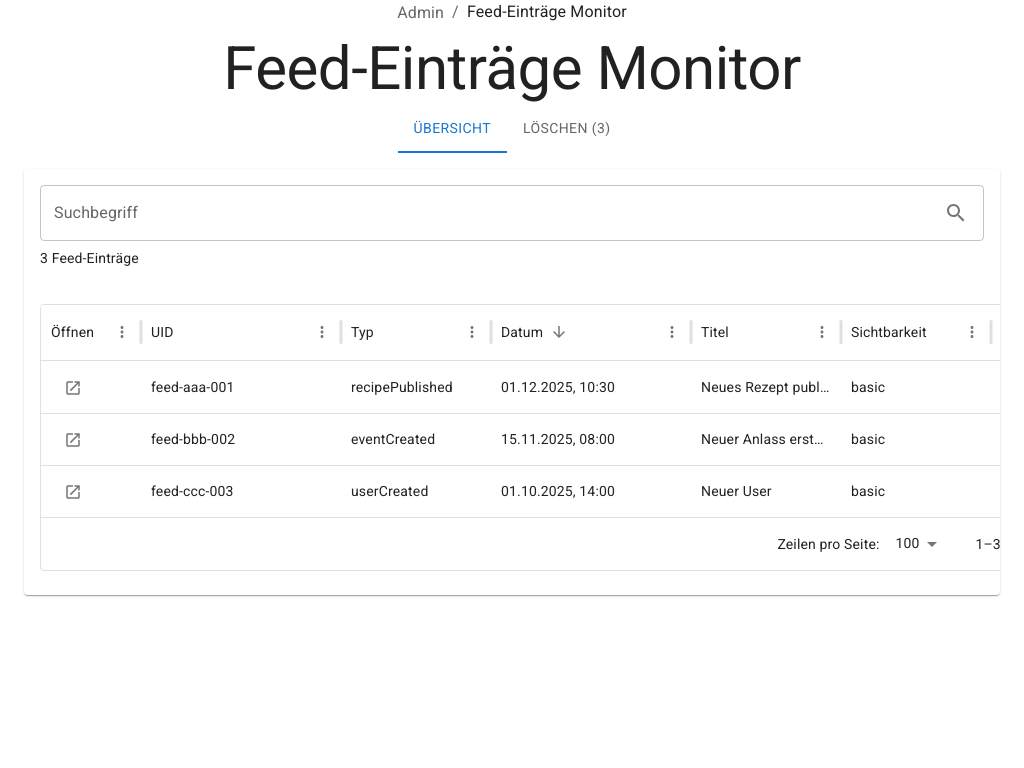
it: 9 – Dialog schliesst bei Klick auf Schliessen
Click the button named "open feed" next to "feed-aaa-001": (73, 388) x1=59 y1=374 x2=87 y2=402
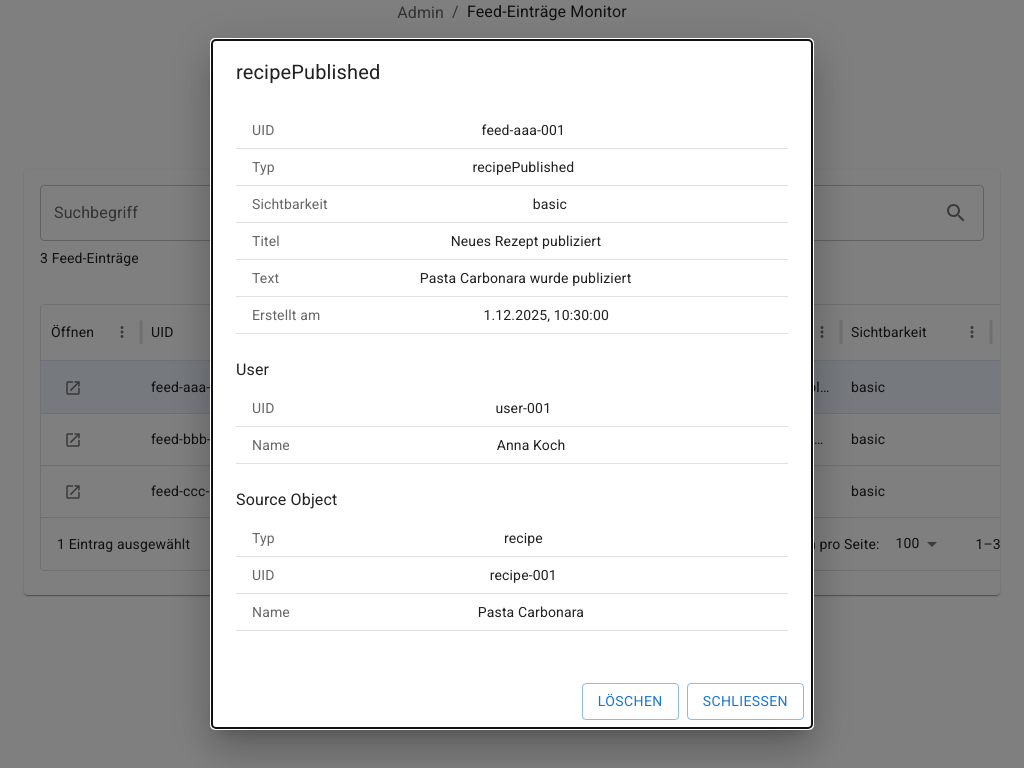
Expected: the dialog is shown, x1=212 y1=40 x2=812 y2=728
Click the button "Schliessen": (745, 702) x1=687 y1=683 x2=804 y2=720
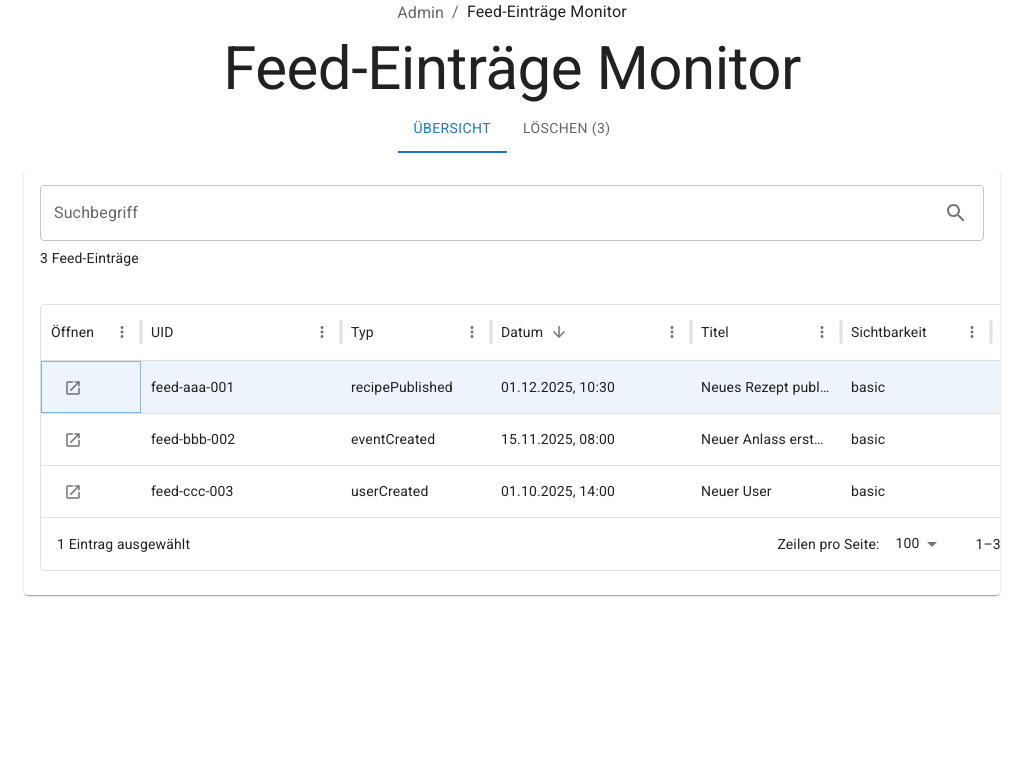
Expected: the dialog is gone
